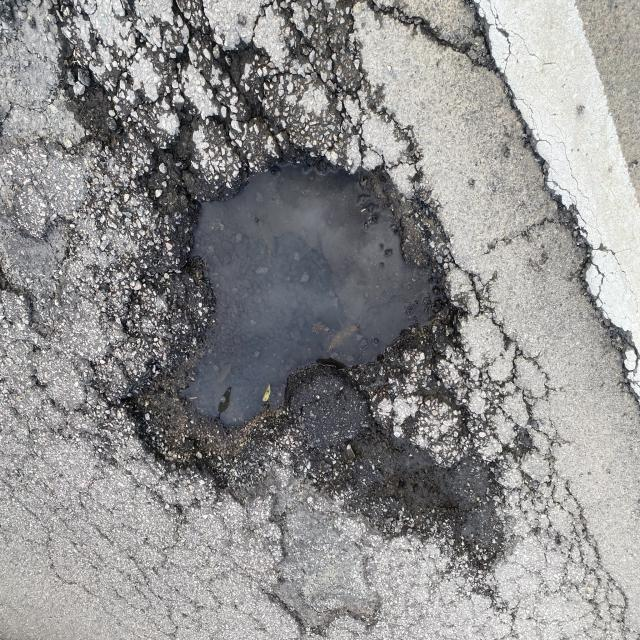pothole: (114, 90, 479, 546)
